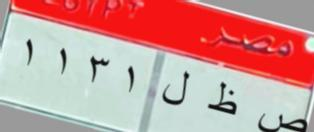1: (119, 63, 147, 99), (18, 31, 43, 70), (51, 45, 78, 80)
3: (87, 53, 115, 90)
Thaa: (200, 81, 245, 122)
laam: (162, 68, 195, 113)
saad: (255, 102, 308, 132)
